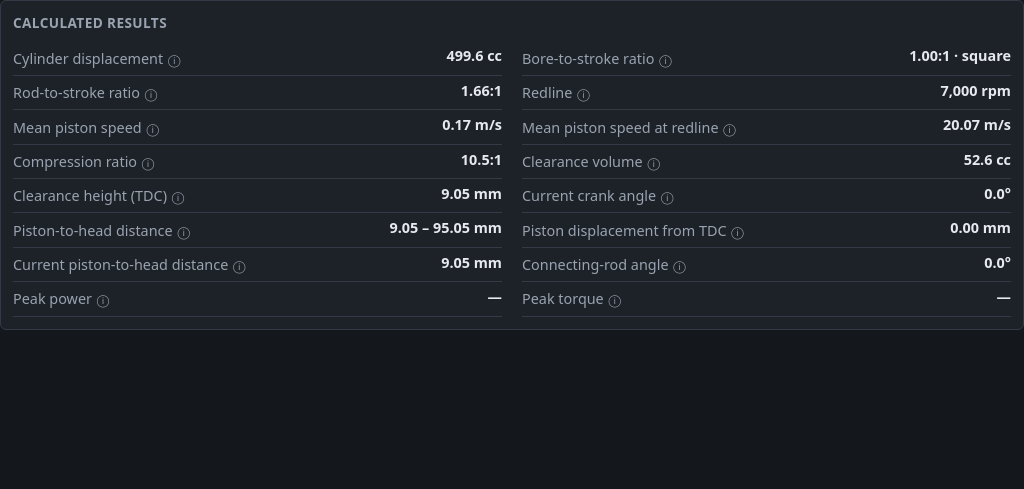
CalculationPanel › metric info popups › keeps only one explainer open at a time
Click the button "Cylinder displacement ⓘ" at (97, 58), box x1=13 y1=46 x2=180 y2=70
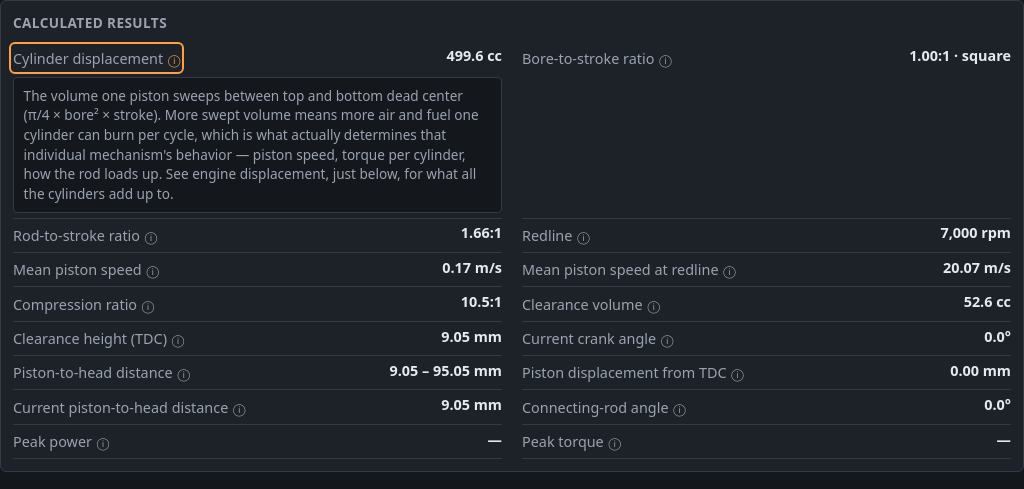
Expected: the button "Cylinder displacement ⓘ" is expanded, x1=13 y1=46 x2=180 y2=70
Click the button "Bore-to-stroke ratio ⓘ" at (597, 58), box x1=522 y1=46 x2=672 y2=70
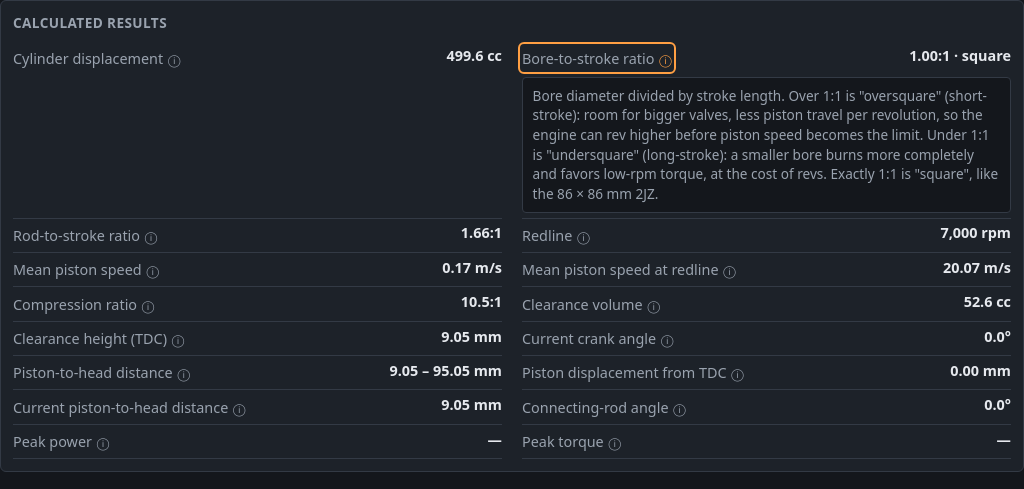
Expected: the button "Bore-to-stroke ratio ⓘ" is expanded, x1=522 y1=46 x2=672 y2=70
Expected: the button "Cylinder displacement ⓘ" is collapsed, x1=13 y1=46 x2=180 y2=70
Expected: the text "The volume one piston sweeps between top and bottom dead center (π/4 × bore² × stroke). More swept volume means more air" is gone
